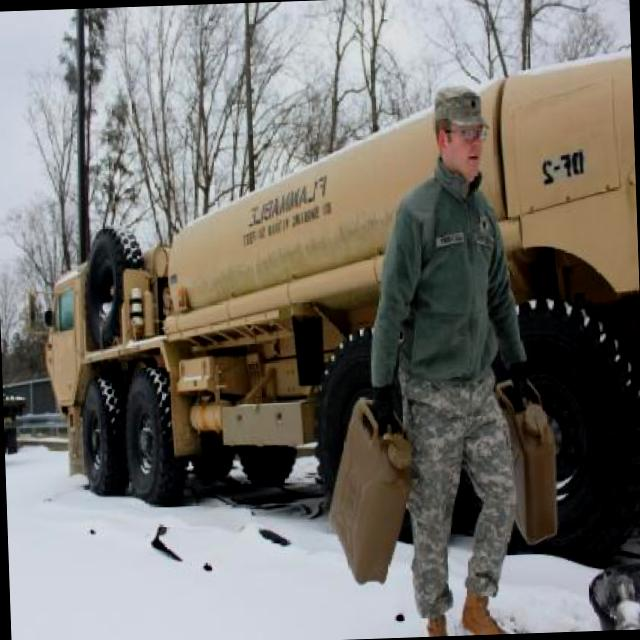Person: (363, 82, 542, 638)
